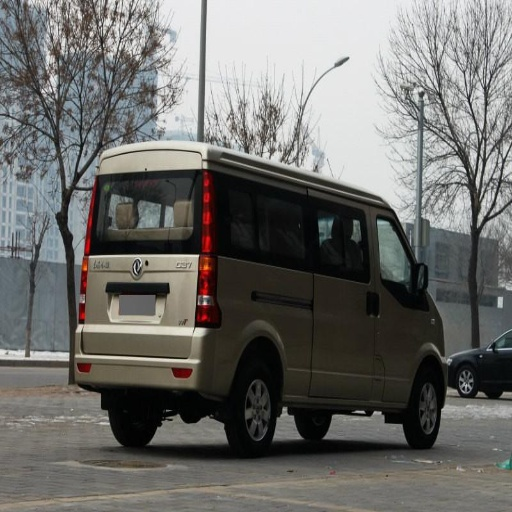back_bumper: (75, 340, 193, 386)
trunk: (86, 229, 357, 395)
